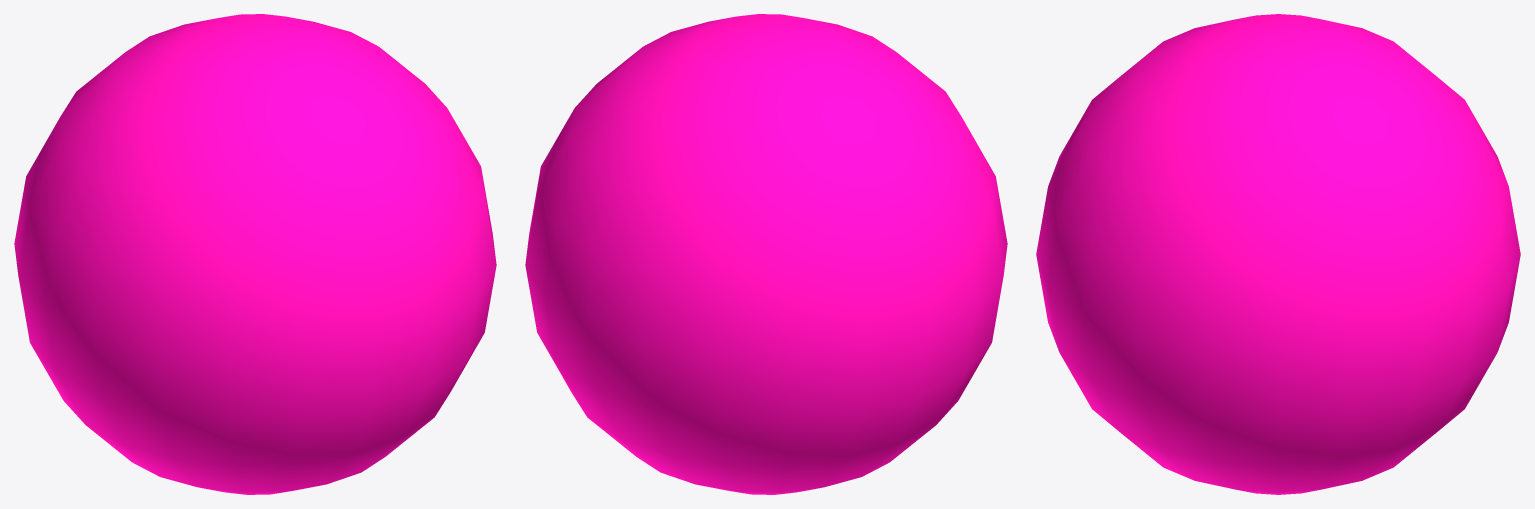
The model's file is 5e71c44c-0351-4add-a839-377521da3f7e.glb.
3 renders of one model, left to right at view 1: azimuth 30°, elevation 25°; view 2: azimuth 150°, elevation 25°; view 3: azimuth 270°, elevation 25°, orthographic.
Parts seen in each view (by area): view 1: BaseSphere.007; view 2: BaseSphere.007; view 3: BaseSphere.007.
Part boxes in pixels (<box>): BaseSphere.007: <box>14,14,496,494</box>; BaseSphere.007: <box>525,14,1007,494</box>; BaseSphere.007: <box>1036,14,1520,494</box>.
Size of what is drawn, in the model's own units: 0.7481 by 0.7481 by 0.7481.
1 material, 1 textured.
